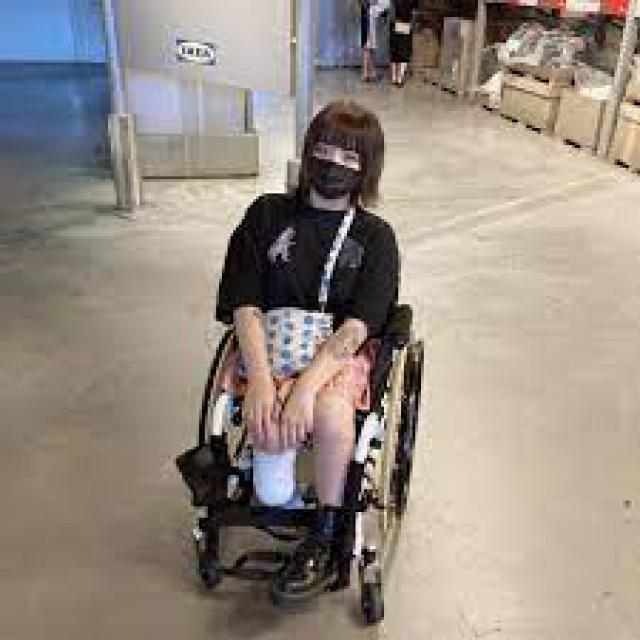wheelchairs: (179, 259, 415, 623)
